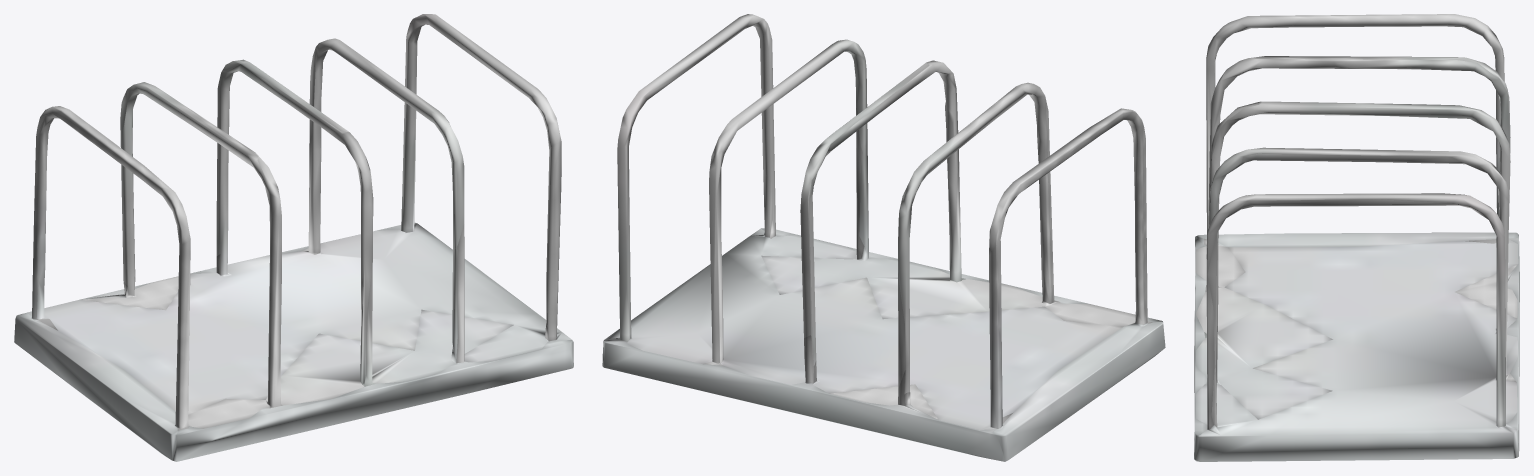
Rendered from Poppin_File_Sorter_White-medium.glb.
The picture shows the model from 3 angles, left to right: view 1: azimuth 30°, elevation 25°; view 2: azimuth 150°, elevation 25°; view 3: azimuth 270°, elevation 25°; orthographic projection.
Parts seen in each view (by area): view 1: Poppin_File_Sorter_White; view 2: Poppin_File_Sorter_White; view 3: Poppin_File_Sorter_White.
Part boxes in pixels (x1=…): Poppin_File_Sorter_White: x1=14, y1=14, x2=573, y2=461; Poppin_File_Sorter_White: x1=602, y1=14, x2=1165, y2=461; Poppin_File_Sorter_White: x1=1194, y1=14, x2=1519, y2=461.
Size of the model in its own units: 0.2501 by 0.1556 by 0.1738.
1 material, 1 textured.
